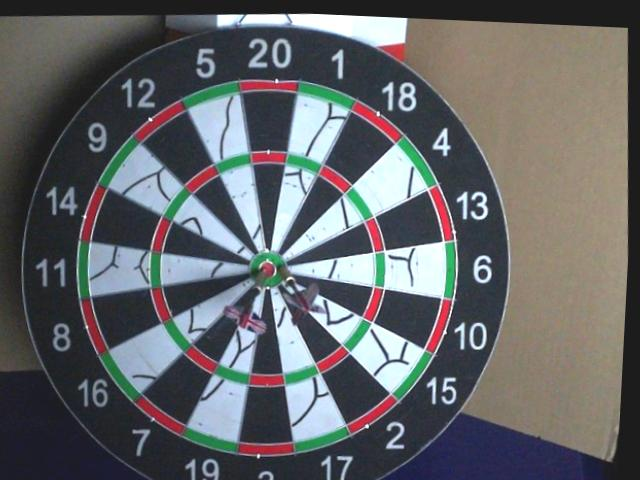bullseye: (256, 254, 287, 288)
